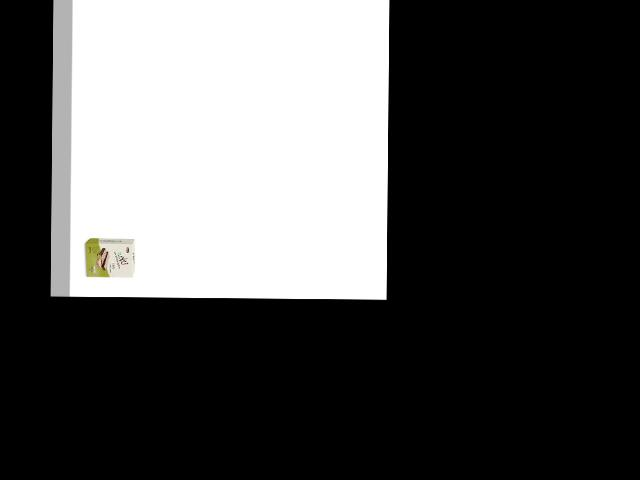chocolate: (82, 235, 136, 282)
